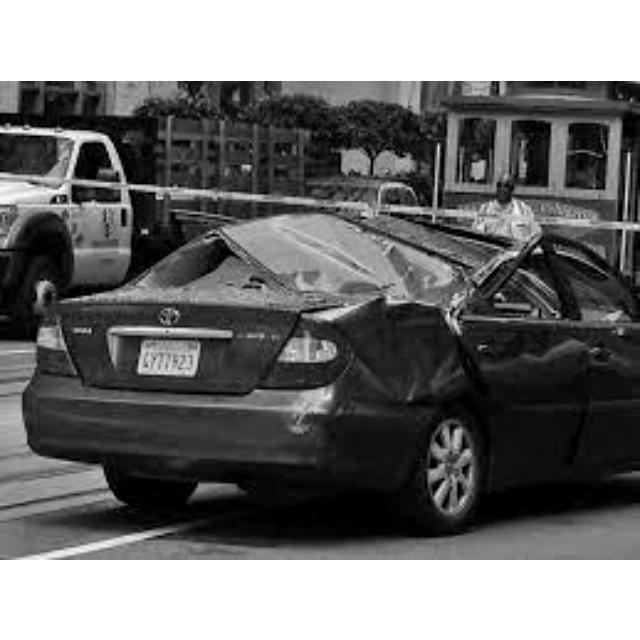quaterpanel-dent: (327, 288, 480, 468)
roof-dent: (242, 196, 558, 292)
